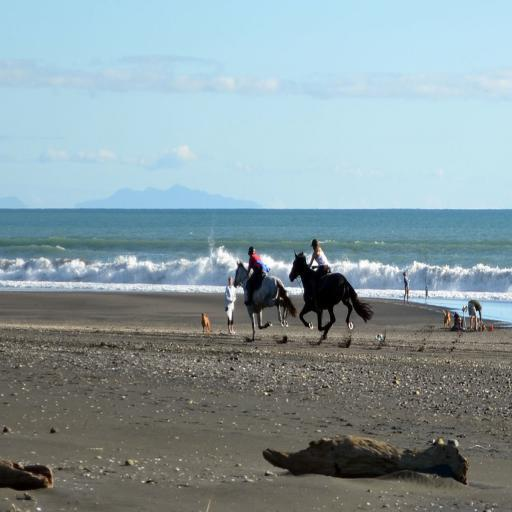Horse: (286, 248, 375, 338), (232, 256, 300, 341)
